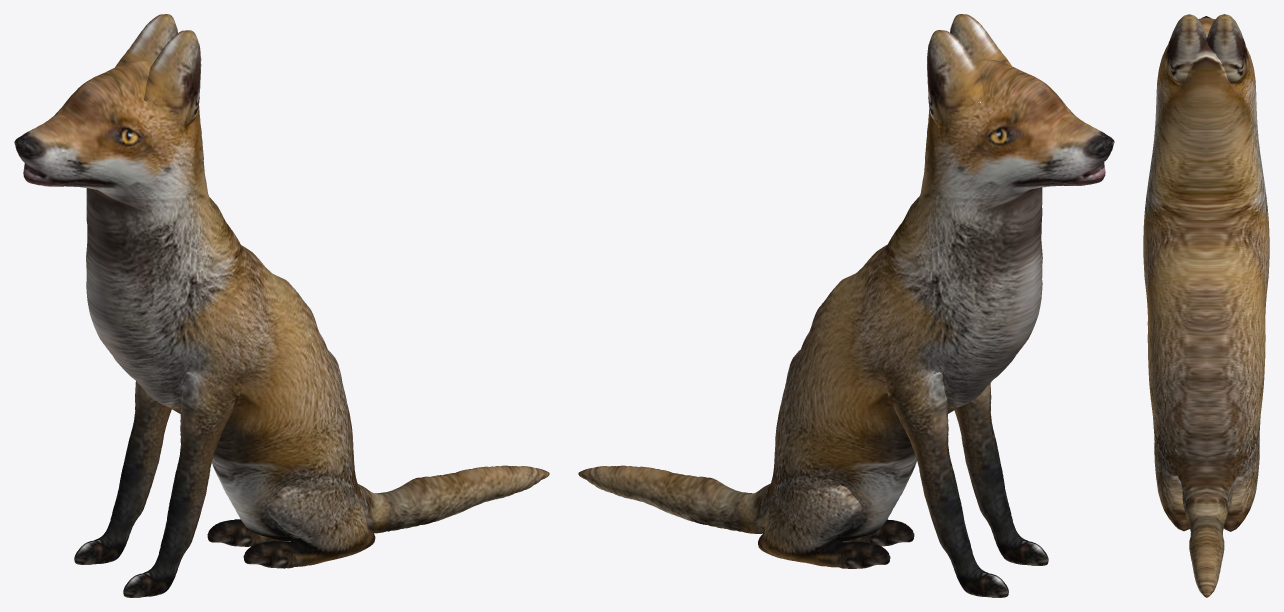
The model's file is fox_animation.glb.
3 views of the same model, side by side, from view 1: azimuth 30°, elevation 25°; view 2: azimuth 150°, elevation 25°; view 3: azimuth 270°, elevation 25° (orthographic). The views are drawn at different scales.
Bounding box in the file's own units: 6.91 × 6.91 × 1.76.
1 material, 1 textured.
